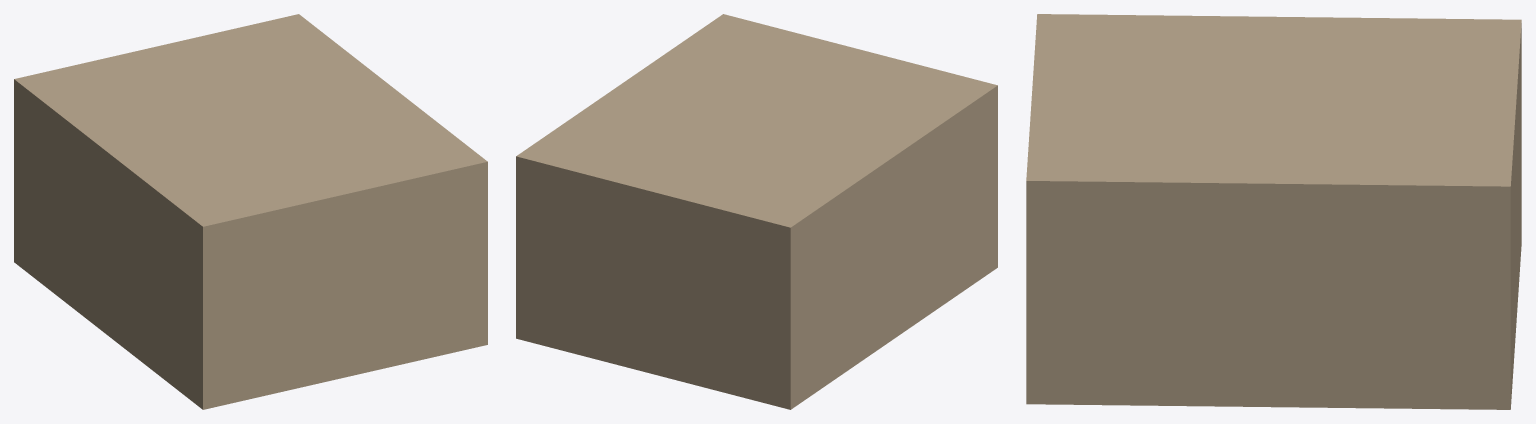
Rendered from bld_106466742.dae.
3 renders of one model, left to right at view 1: azimuth 30°, elevation 25°; view 2: azimuth 150°, elevation 25°; view 3: azimuth 270°, elevation 25°, orthographic. The views are drawn at different scales.
Visible parts, largest first — view 1: bld_106466742; view 2: bld_106466742; view 3: bld_106466742.
Part boxes in pixels (box(x1,y1,x2,y2)): bld_106466742: box(14, 14, 487, 409); bld_106466742: box(516, 14, 997, 409); bld_106466742: box(1026, 14, 1521, 409).
Size of the model in its own units: 13.26 by 16.08 by 8.
